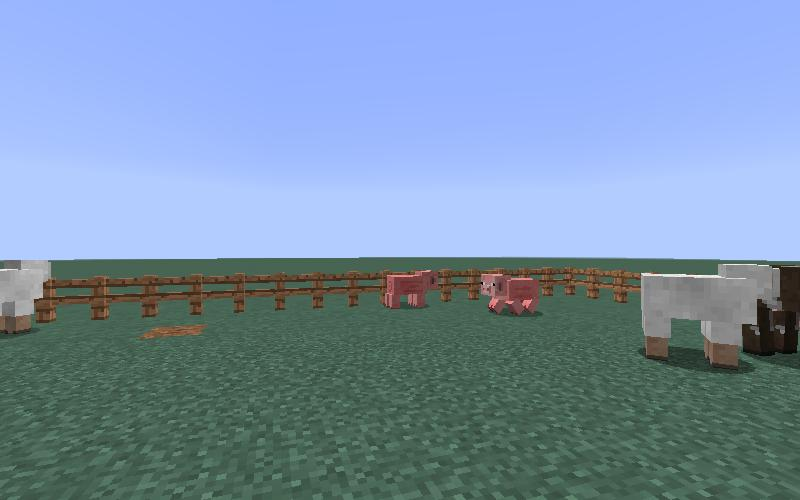pig: (475, 269, 546, 322), (381, 264, 437, 313)
sheep: (633, 256, 784, 374), (1, 259, 52, 334)
